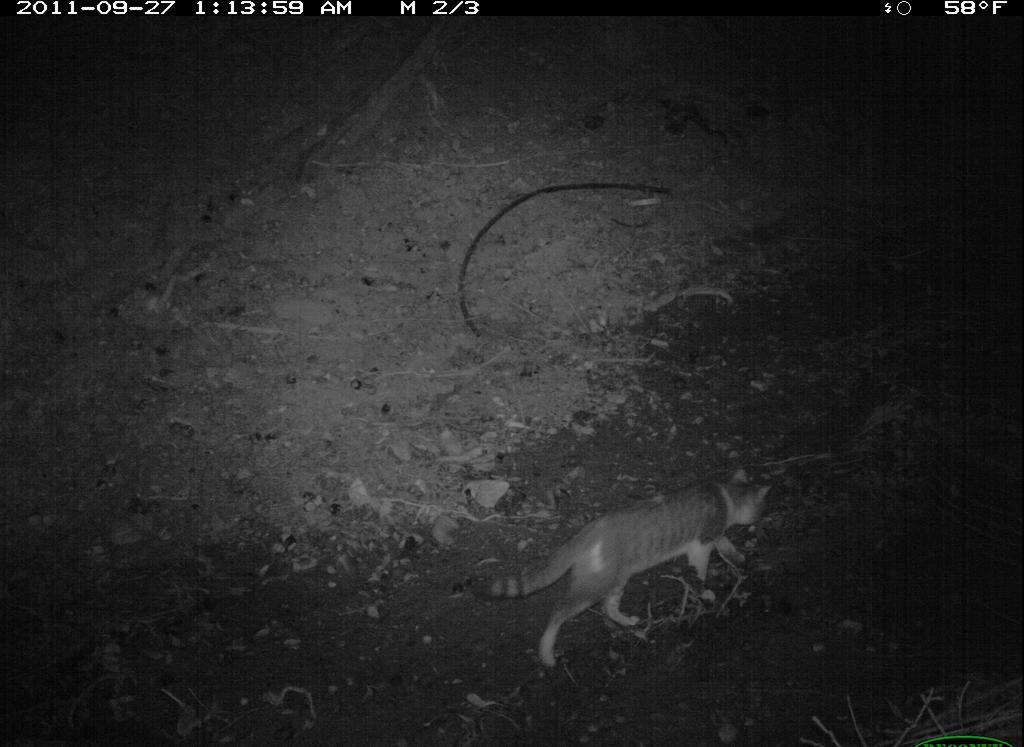cat: (468, 468, 816, 669)
